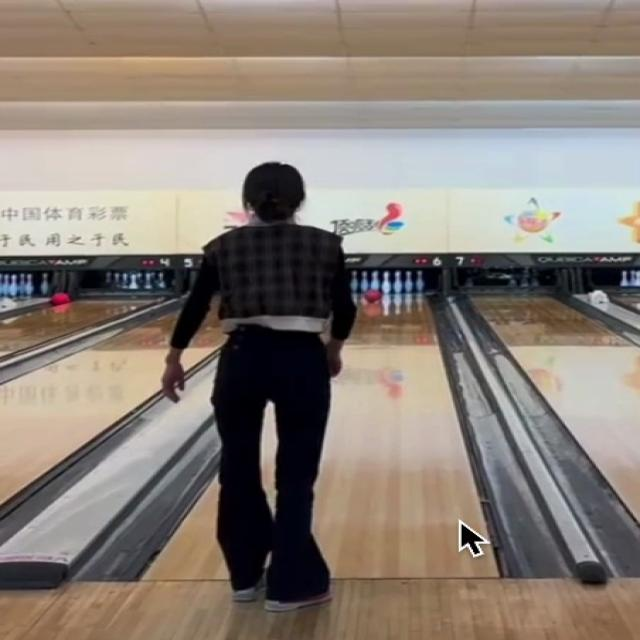alley: (314, 290, 496, 577), (146, 486, 224, 580)
balls: (362, 289, 381, 305)
bottle: (351, 270, 426, 295)
